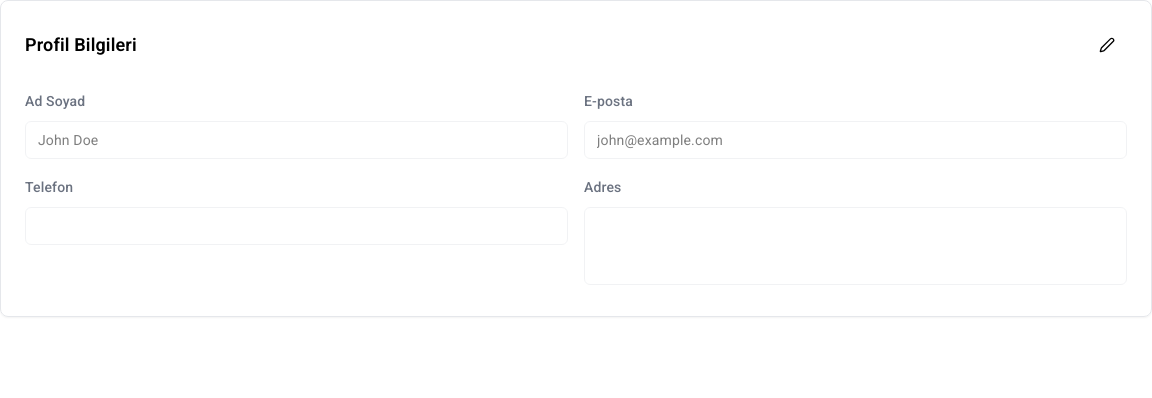
Test: ProfileInfoCard › cancels editing and resets form values
Note: Enable editing mode
Click the button named "Profili düzenle". click: (1107, 45)
box: [1087,25,1127,65]
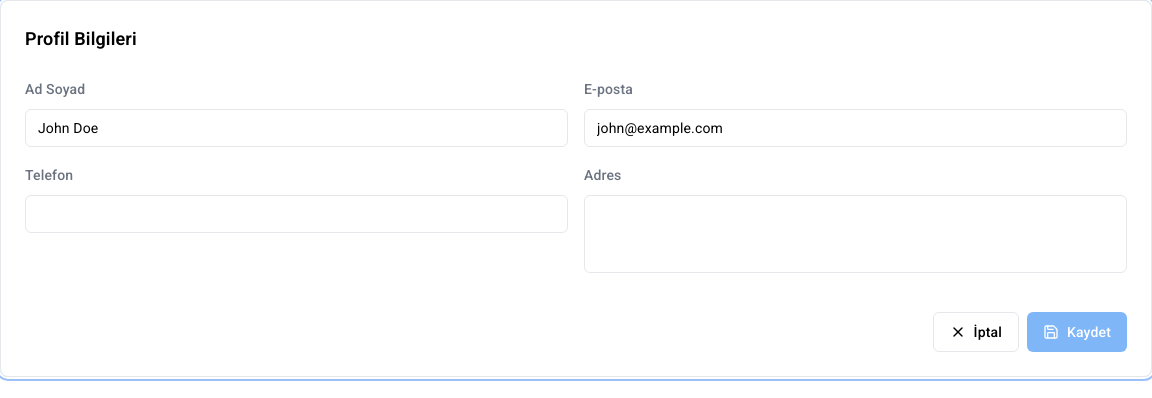
Note: Make changes
Replace the text in the field labelled "Ad Soyad" with "Jane Doe". click: (296, 128)
box: [25,109,568,147]
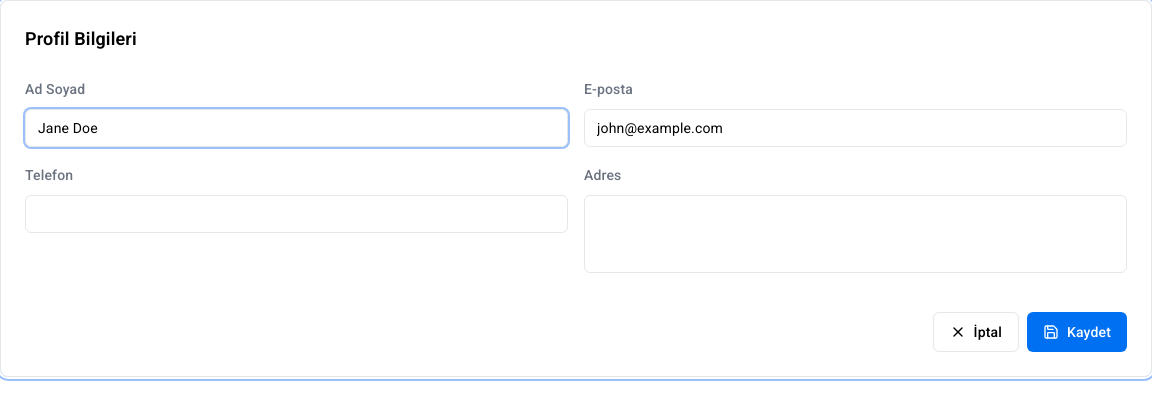
Note: Cancel editing
Click the button "İptal". click: (976, 332)
box: [933,312,1019,352]
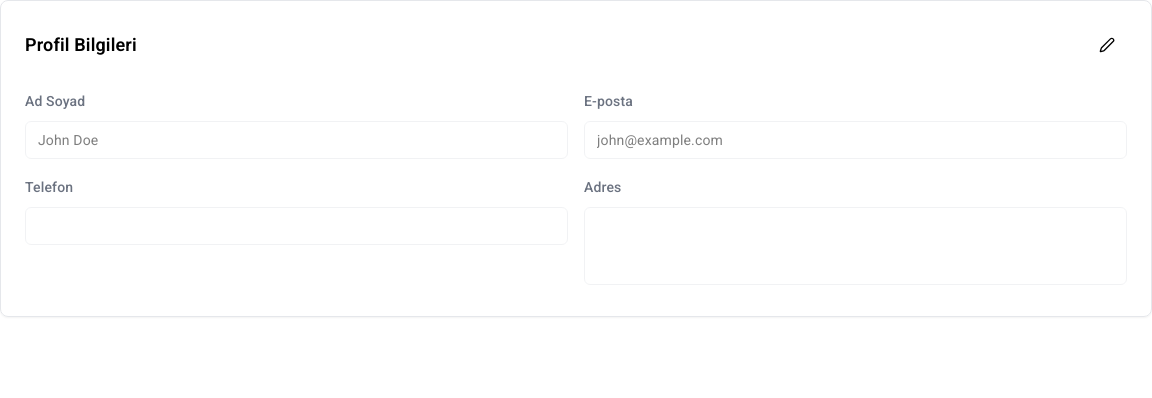
Expected: the field showing "Jane Doe" is not shown
Result: the field labelled "Ad Soyad" is disabled at [25,121,568,159]
Result: the field labelled "E-posta" is disabled at [584,121,1127,159]
